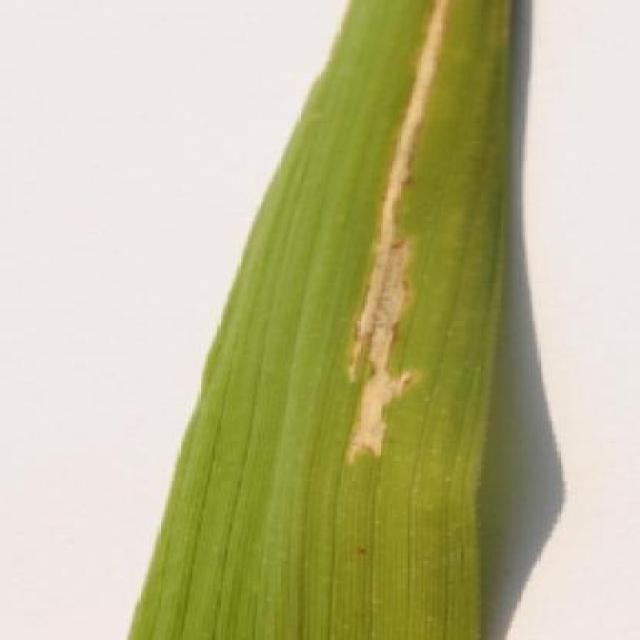Brown_Spot: (312, 0, 517, 485)
